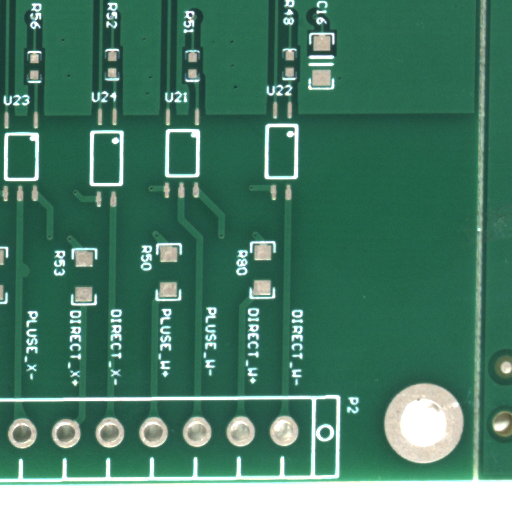Spur: (26, 269, 35, 288)
